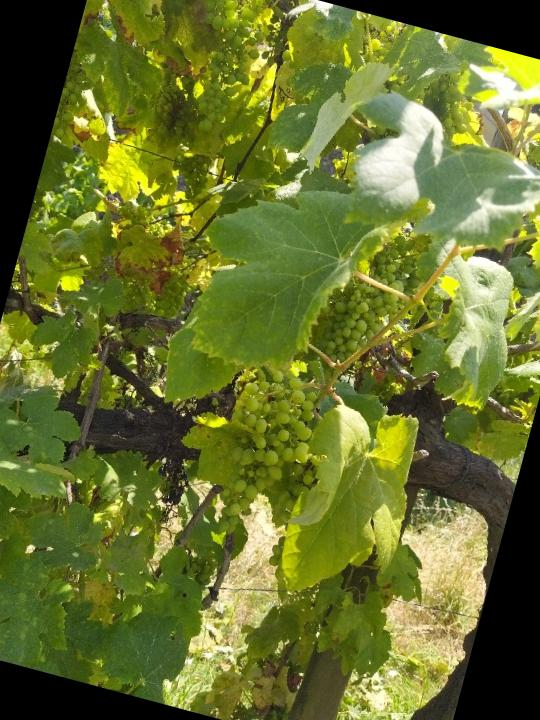grape: (200, 359, 331, 553), (307, 217, 435, 387)
